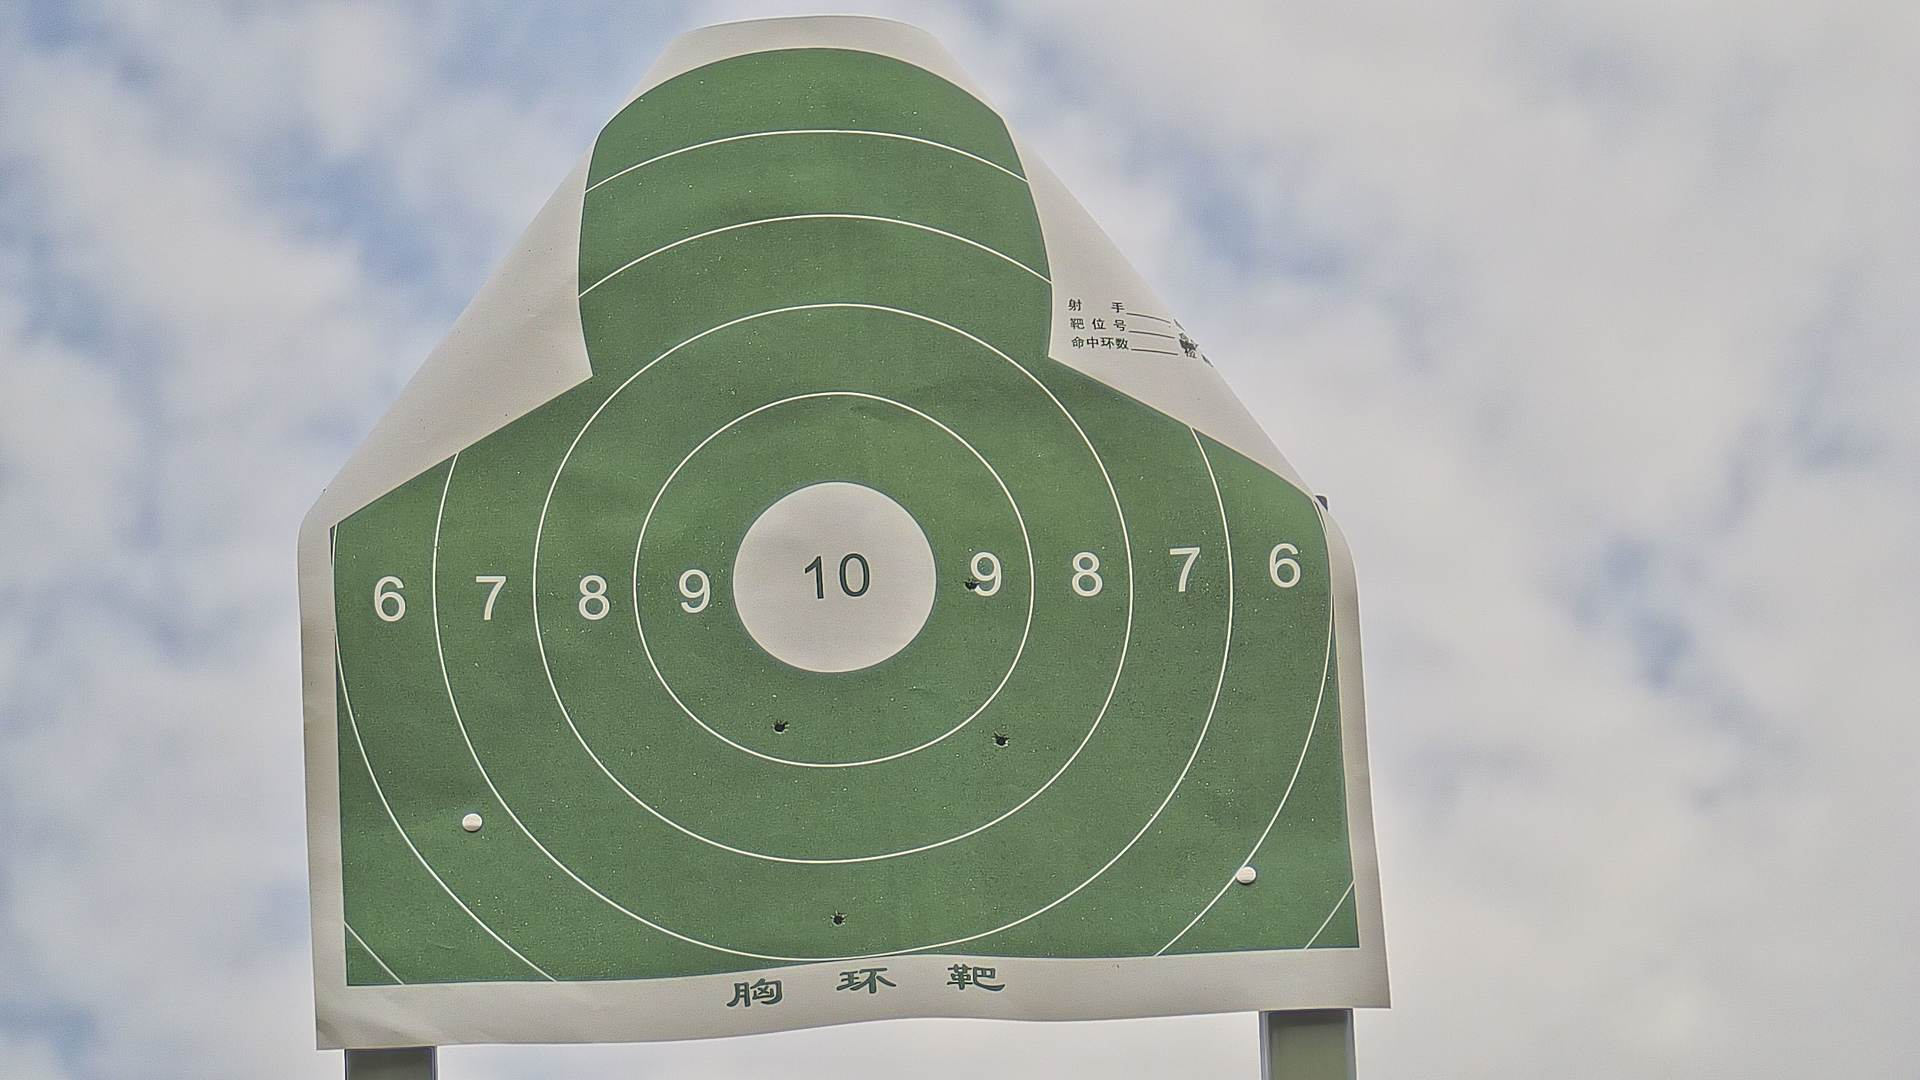hole: (990, 728, 1013, 752), (769, 716, 790, 736), (829, 910, 849, 927), (961, 578, 982, 592)
kernel: (833, 579, 835, 582)
target: (326, 45, 1364, 1007)
ten: (733, 484, 939, 675)
